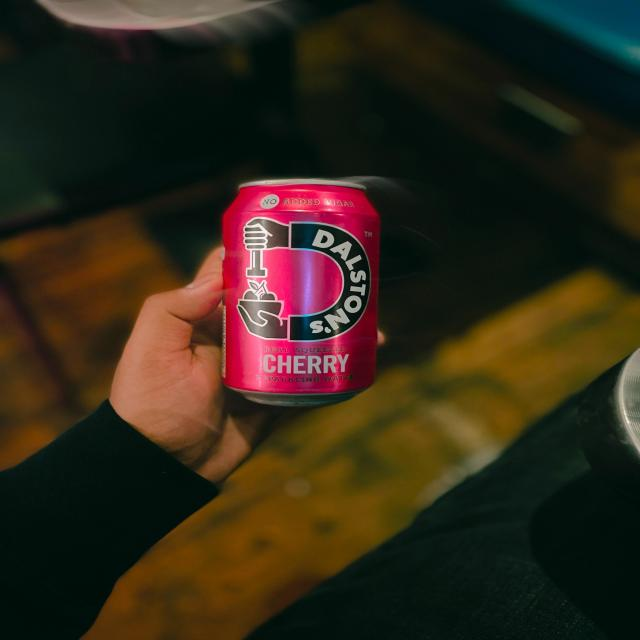can: (217, 175, 379, 409)
